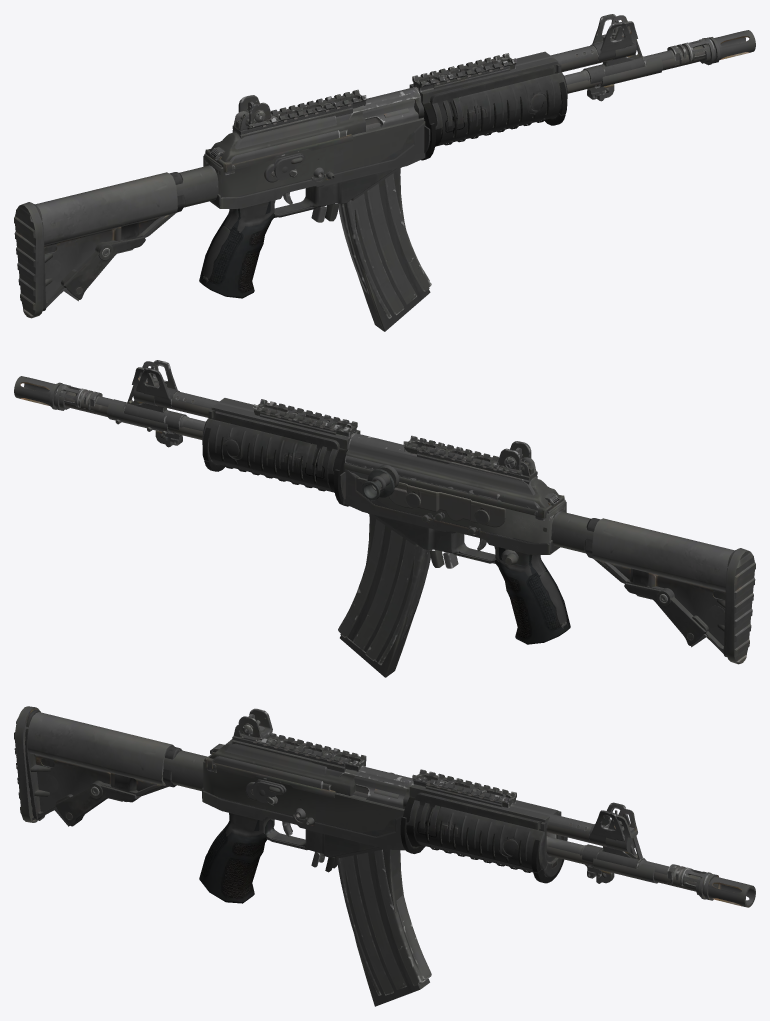
3 renders of one model, top to bottom at view 1: azimuth 30°, elevation 25°; view 2: azimuth 150°, elevation 25°; view 3: azimuth 330°, elevation 25°, orthographic.
Parts seen in each view (by area): view 1: weapon_rif_galilar.vmdl_c.body_legacy, weapon_rif_galilar.vmdl_c.body_hd; view 2: weapon_rif_galilar.vmdl_c.body_legacy, weapon_rif_galilar.vmdl_c.body_hd; view 3: weapon_rif_galilar.vmdl_c.body_legacy, weapon_rif_galilar.vmdl_c.body_hd.
Boxes of the visible parts, <box> form: weapon_rif_galilar.vmdl_c.body_legacy: <box>14,15,755,331</box>; weapon_rif_galilar.vmdl_c.body_hd: <box>33,14,714,318</box>; weapon_rif_galilar.vmdl_c.body_legacy: <box>14,361,755,677</box>; weapon_rif_galilar.vmdl_c.body_hd: <box>55,360,736,665</box>; weapon_rif_galilar.vmdl_c.body_legacy: <box>14,706,755,1006</box>; weapon_rif_galilar.vmdl_c.body_hd: <box>25,708,711,995</box>.
Bounding box in the file's own units: 32.97 × 11.22 × 3.04.
2 materials, 2 textured.
